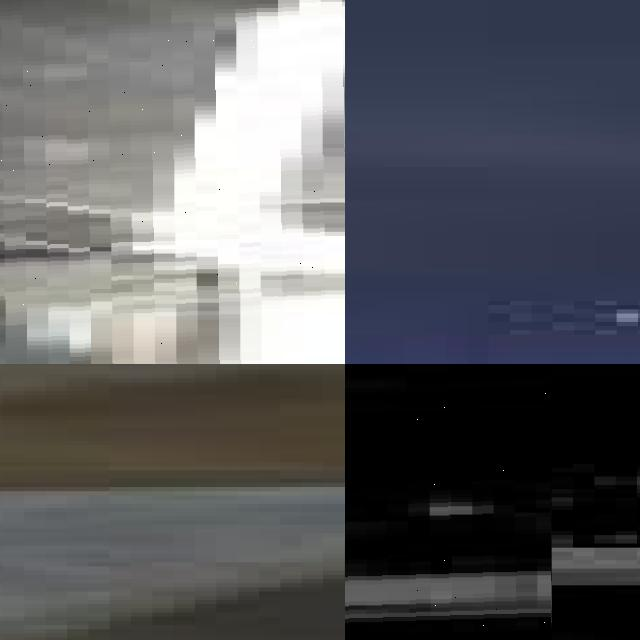street light: (0, 0, 345, 364), (345, 364, 551, 640), (467, 305, 640, 364)
